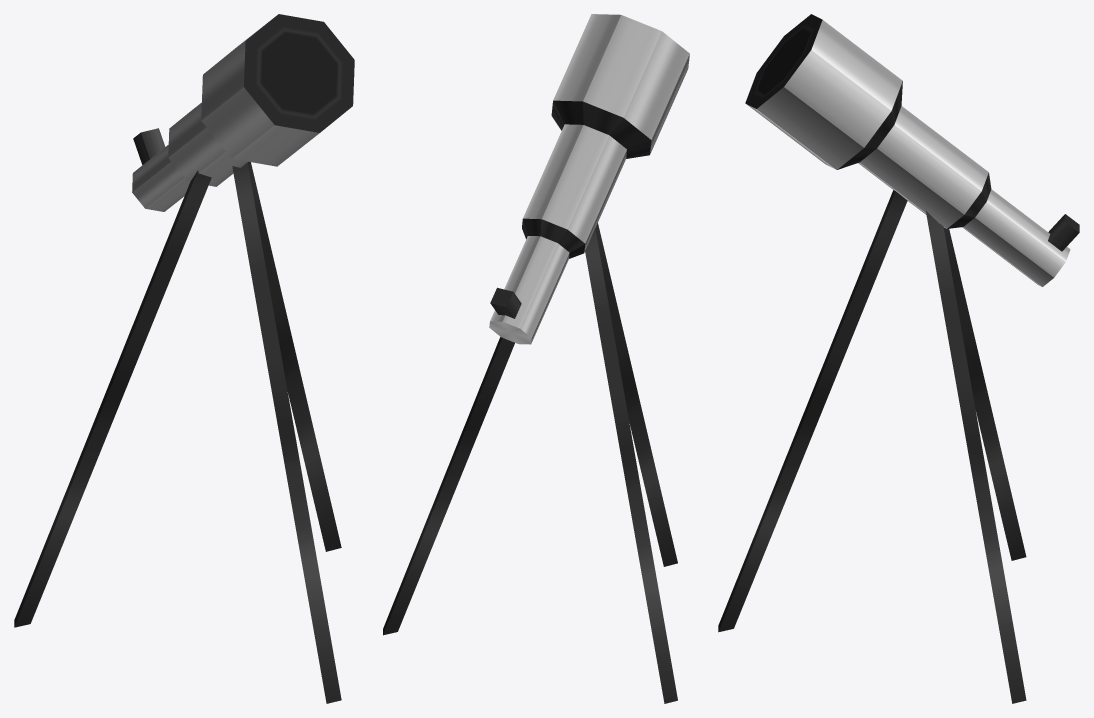
The model's file is InteriorItem_004.fbx.
The picture shows the model from 3 angles, left to right: view 1: azimuth 30°, elevation 25°; view 2: azimuth 150°, elevation 25°; view 3: azimuth 270°, elevation 25°; orthographic projection. The views are drawn at different scales.
Parts seen in each view (by area): view 1: InteriorItem_004; view 2: InteriorItem_004; view 3: InteriorItem_004.
Boxes of the visible parts, box(x1,y1,x2,y2) form: InteriorItem_004: box(14, 14, 354, 703); InteriorItem_004: box(383, 14, 689, 703); InteriorItem_004: box(718, 14, 1079, 703).
Bounding box in the file's own units: 97.16 × 184 × 98.63.
